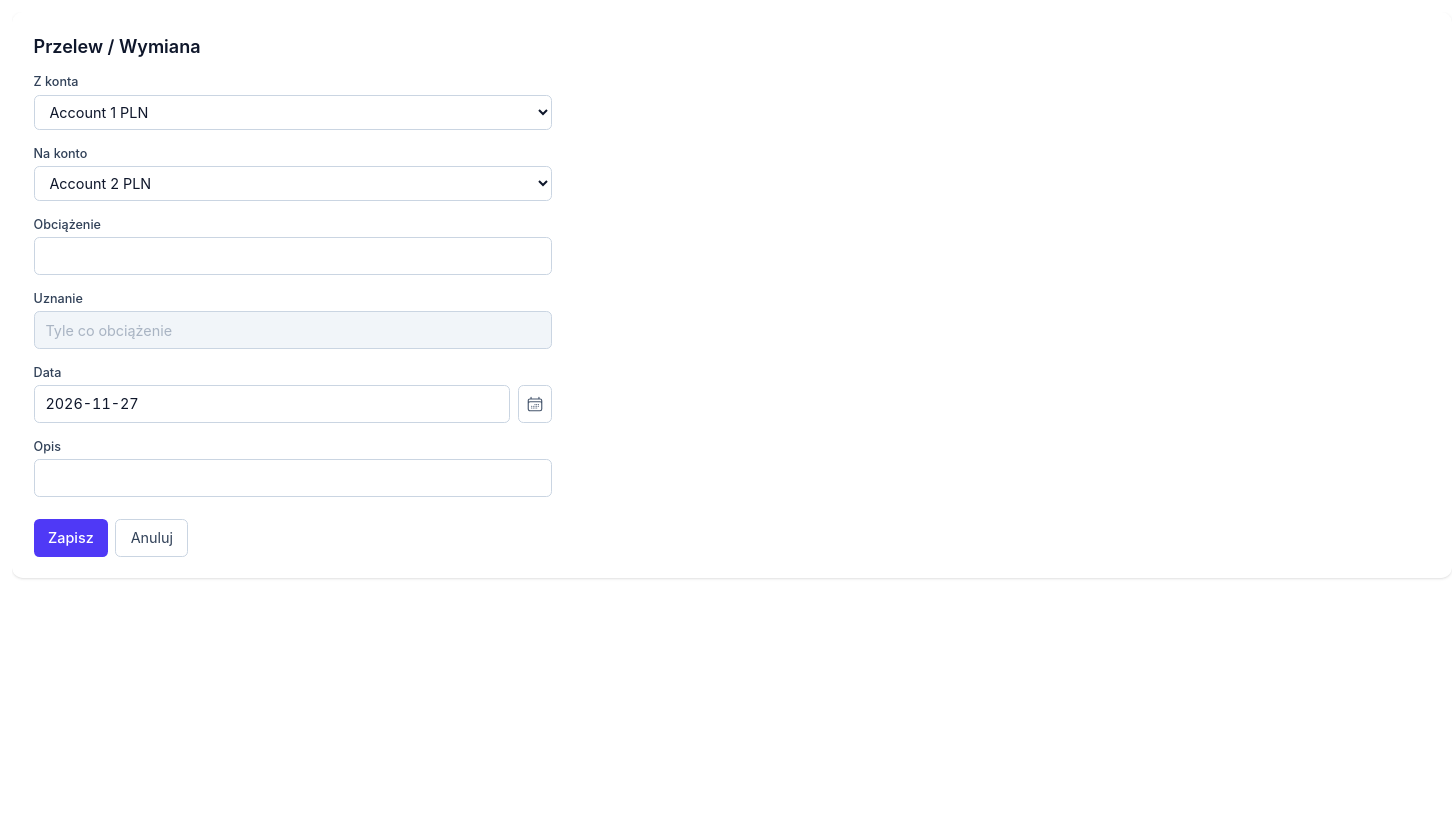
Test case: TransferPage › transfers between the accounts chosen, then shows the operation that left highlighted
Select "Account 2 PLN" in the dropdown labelled "Z konta" at point(293, 112), box [34,95,552,130]
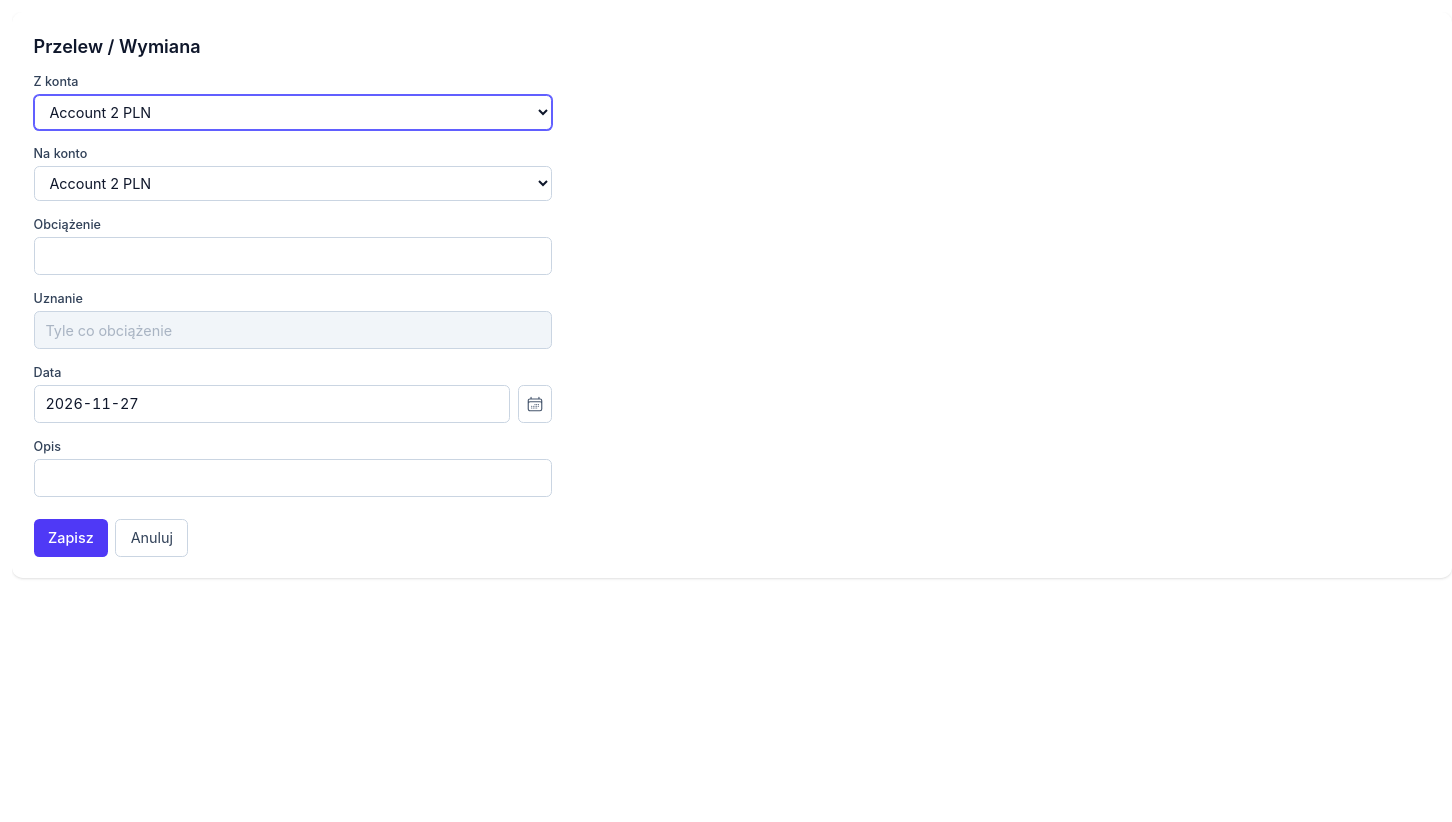
Select "Account 1 PLN" in the dropdown labelled "Na konto" at point(293, 184), box [34,166,552,202]
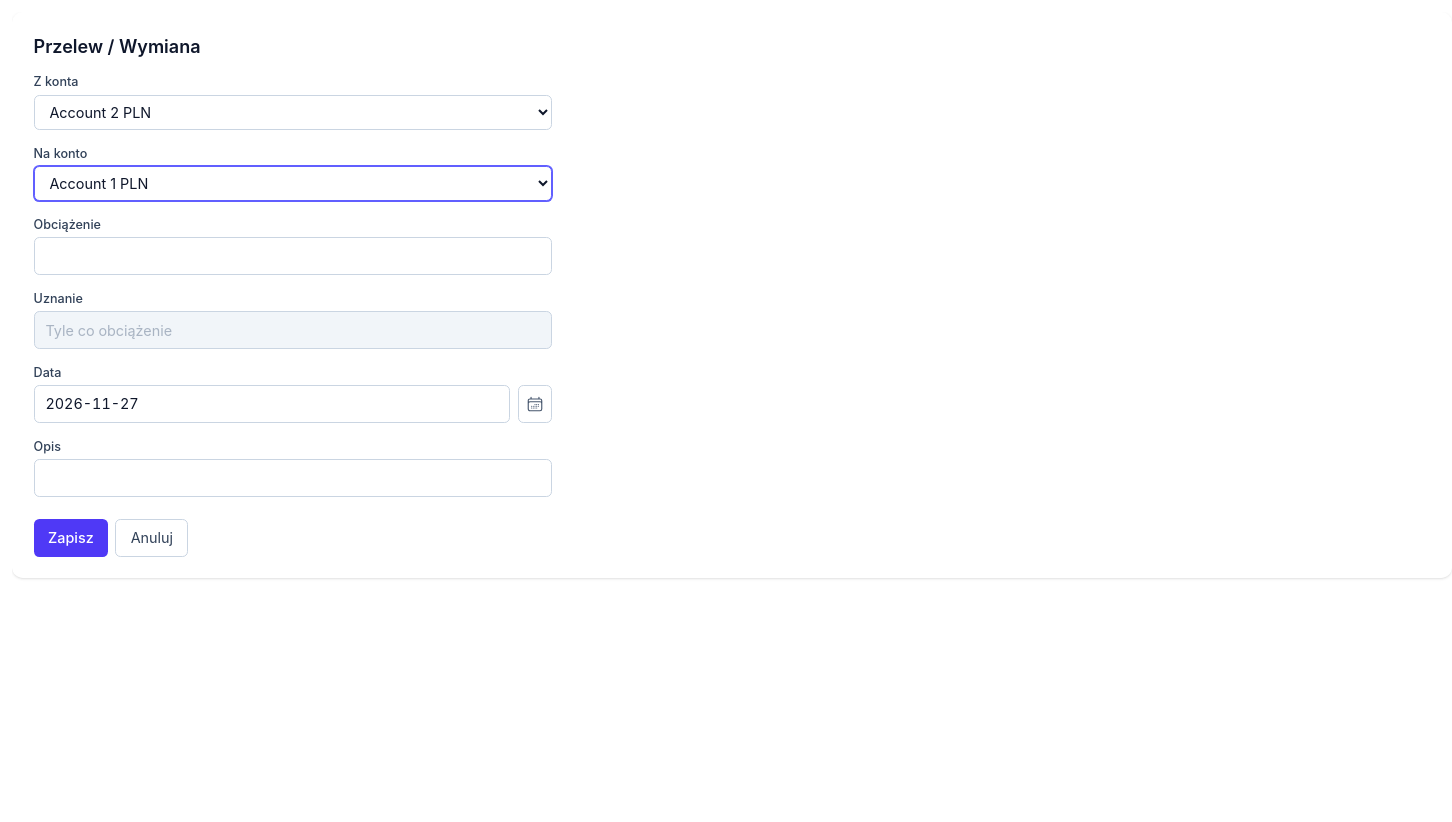
Type "20,00" into the field labelled "Obciążenie" at point(293, 256), box [34,237,552,275]
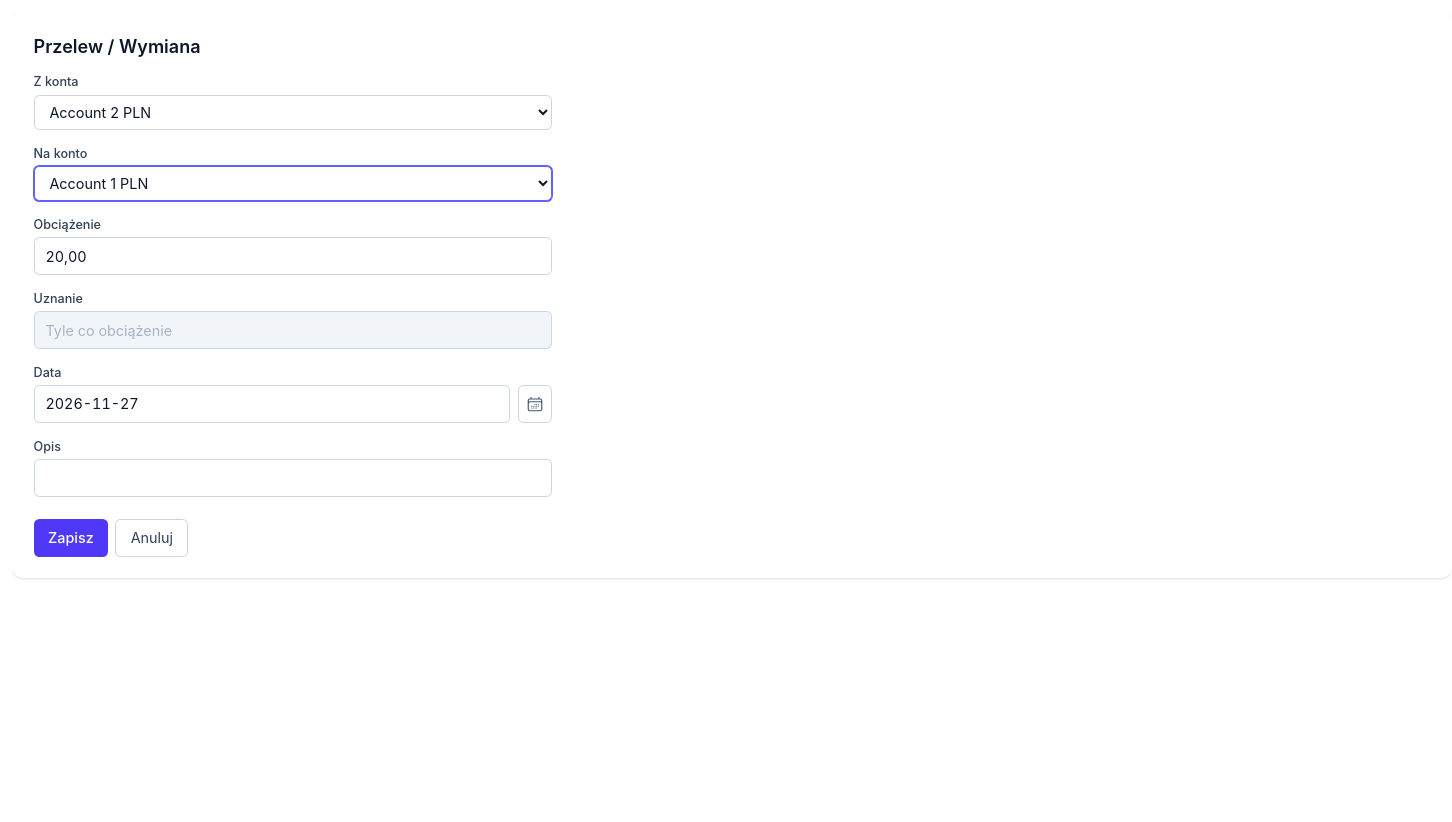
Type "Savings" into the field labelled "Opis" at point(293, 478), box [34,459,552,497]
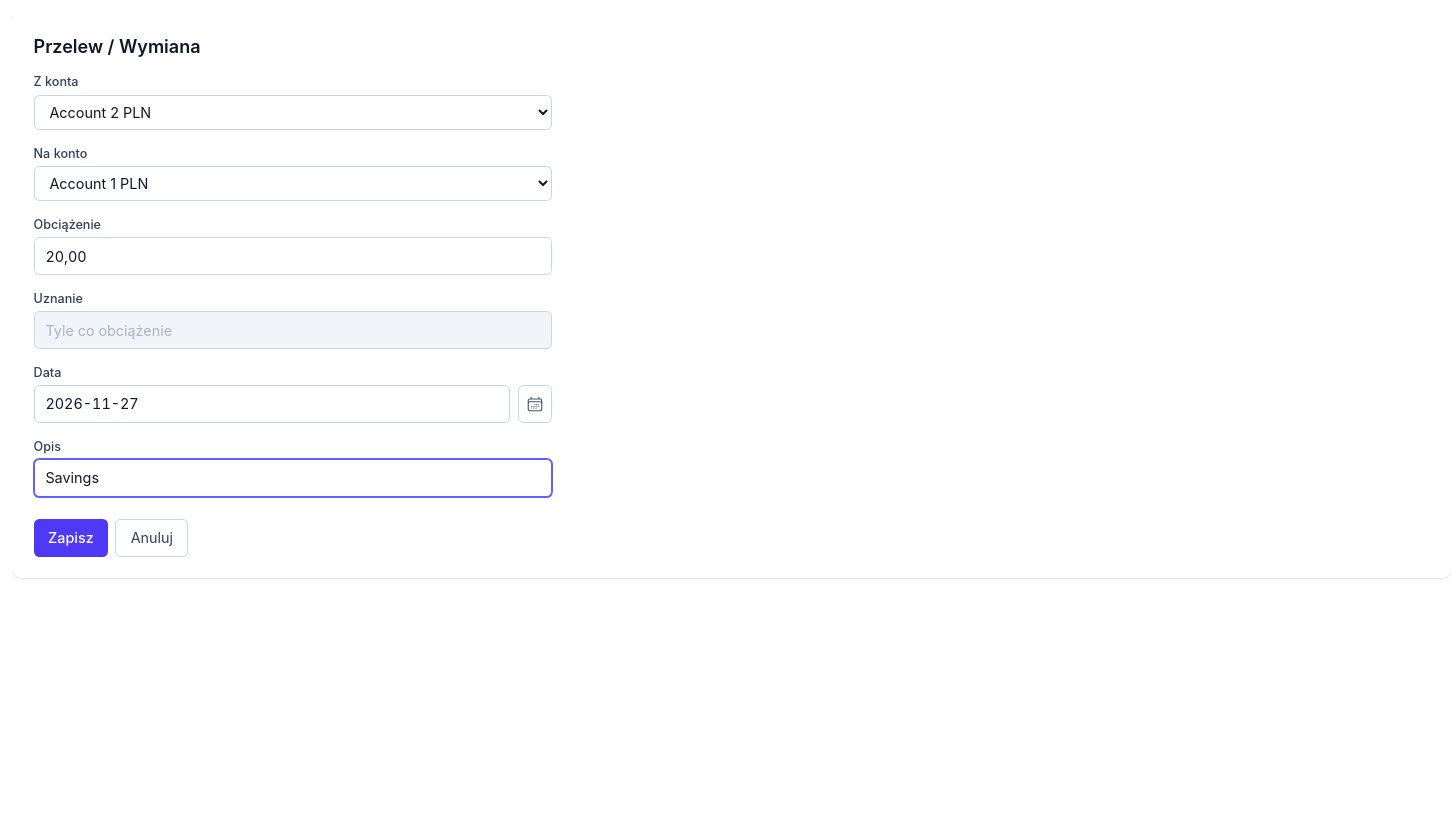
Click the button "Zapisz" at point(71, 538), box [34,519,108,557]
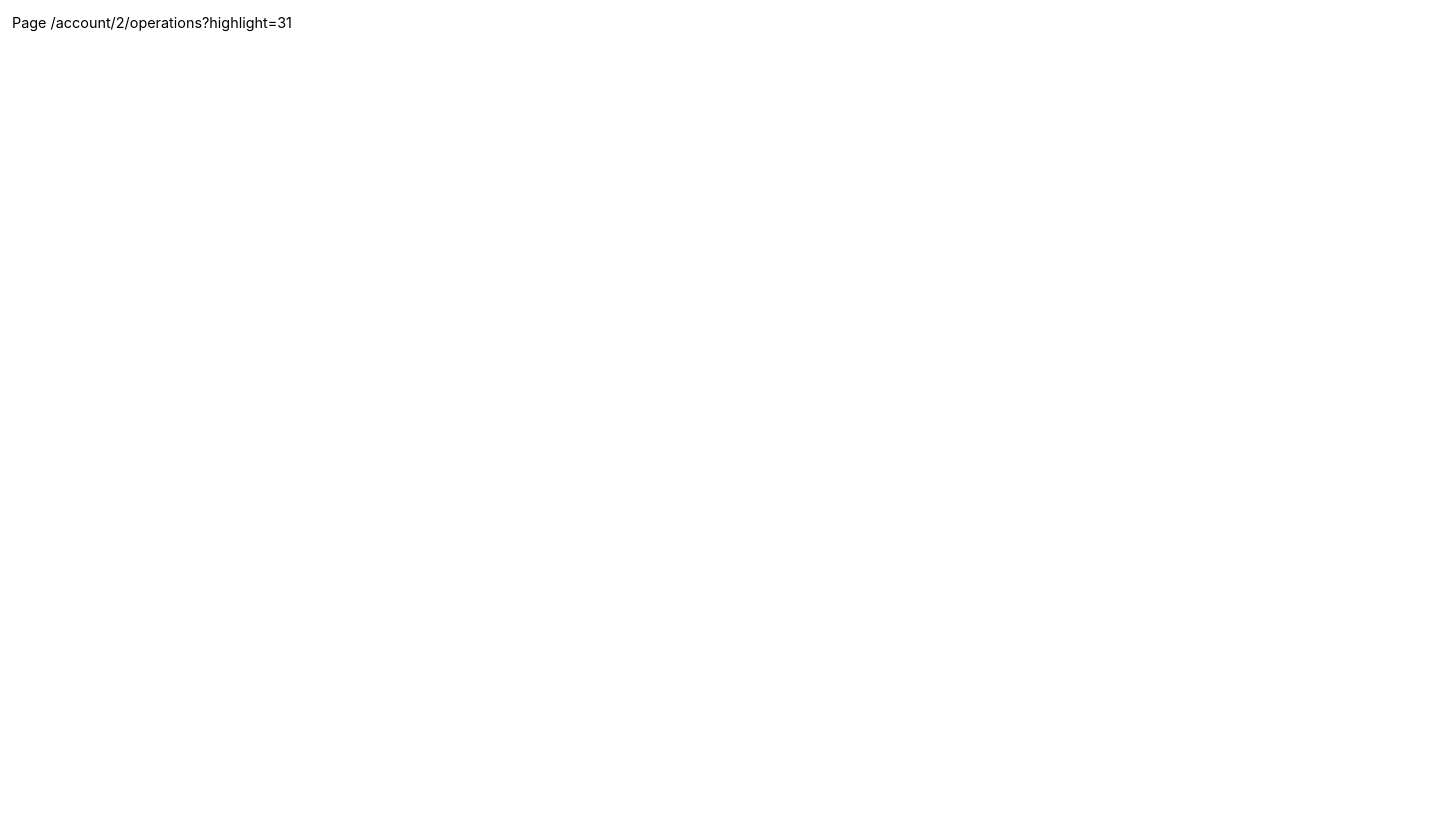
Now the text "Page /account/2/operations?highlight=31" is shown, box [12,14,292,31]
